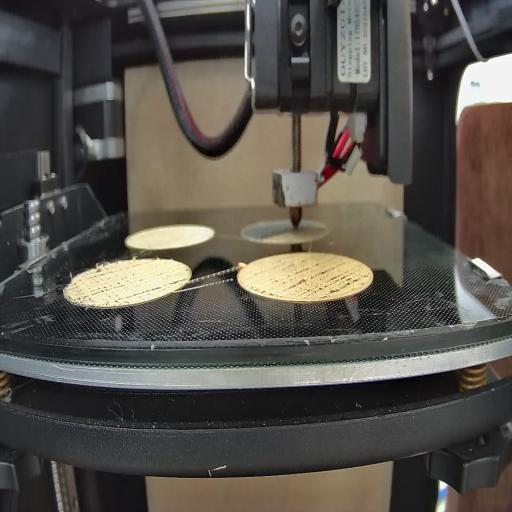under_extrusion: (252, 266, 371, 301), (66, 265, 128, 308), (132, 277, 189, 300)
